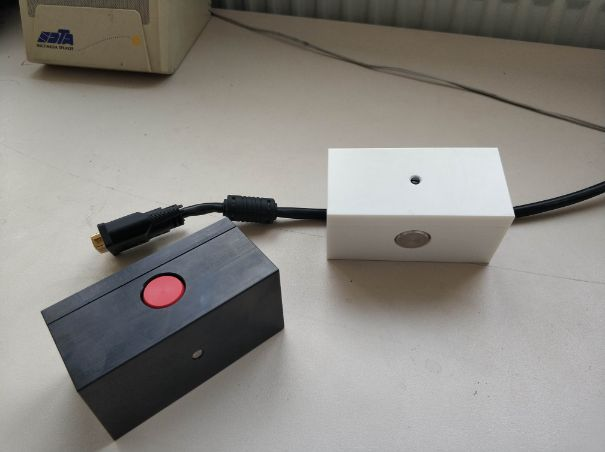black+black+red: (35, 212, 290, 444)
white+white+silver: (322, 143, 517, 265)
